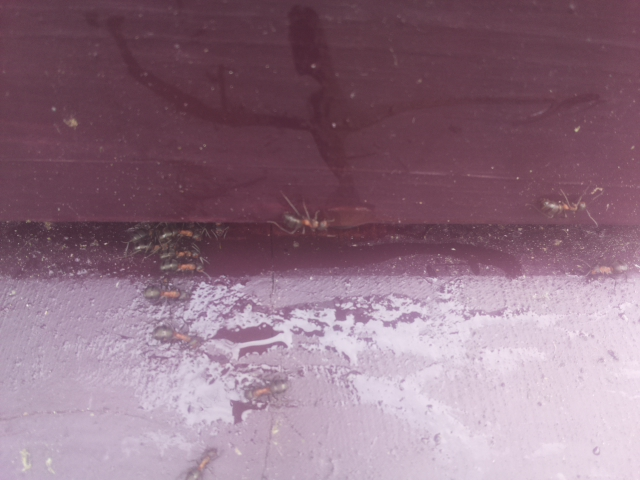ant: (176, 442, 226, 480), (244, 371, 295, 407), (144, 320, 203, 351), (272, 209, 336, 235), (530, 196, 592, 220), (142, 282, 187, 305)
